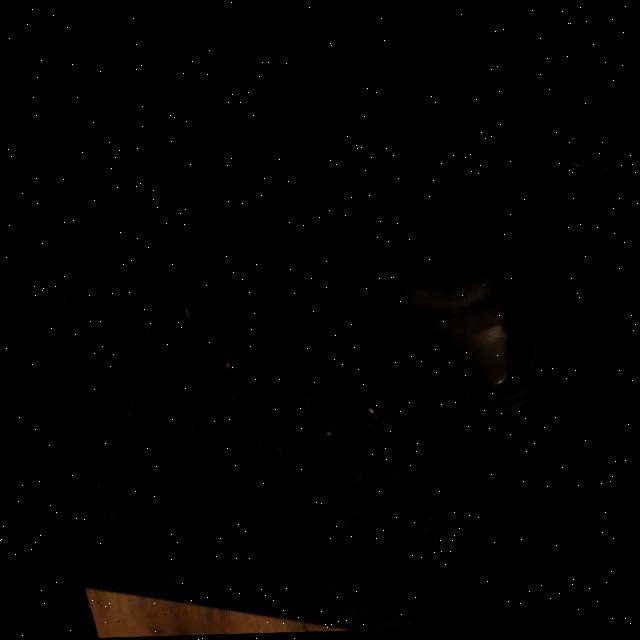shoe: (94, 94, 545, 409)
